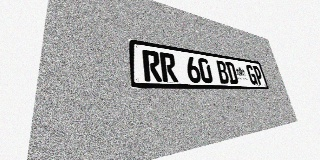0: (197, 57, 213, 83)
6: (185, 56, 202, 83)
B: (215, 60, 230, 84)
D: (225, 61, 239, 84)
G: (245, 64, 258, 85)
P: (252, 65, 264, 85)
R: (142, 49, 162, 82), (159, 52, 178, 82)
